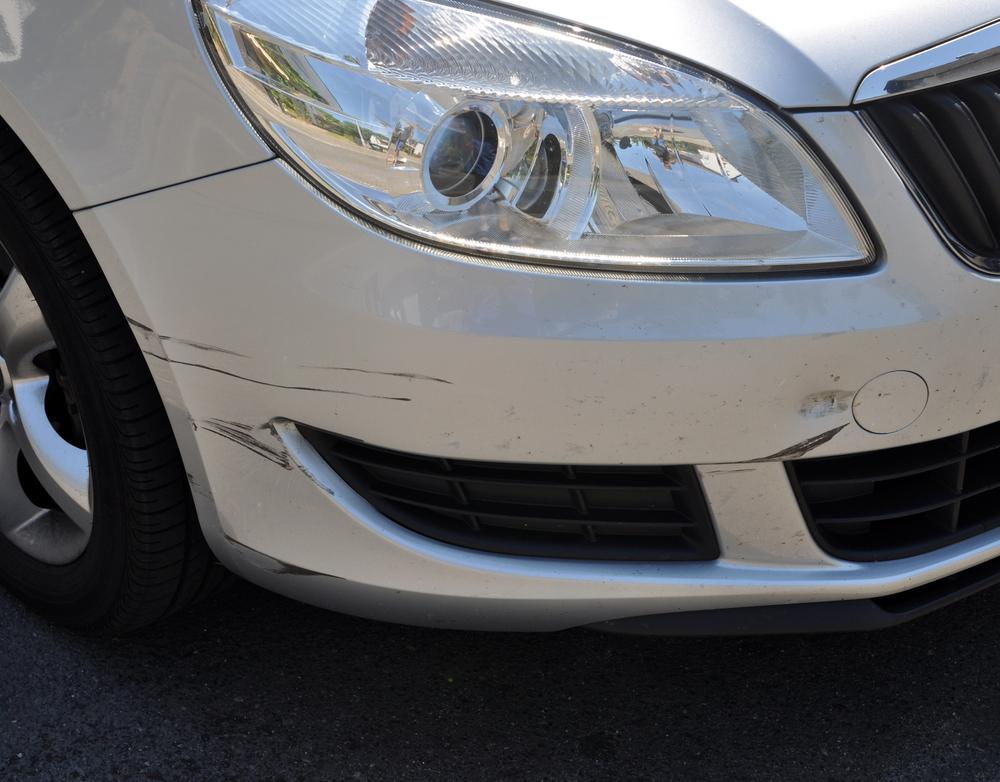dent: (796, 390, 848, 419)
scratch: (124, 318, 452, 582), (758, 419, 851, 459)
